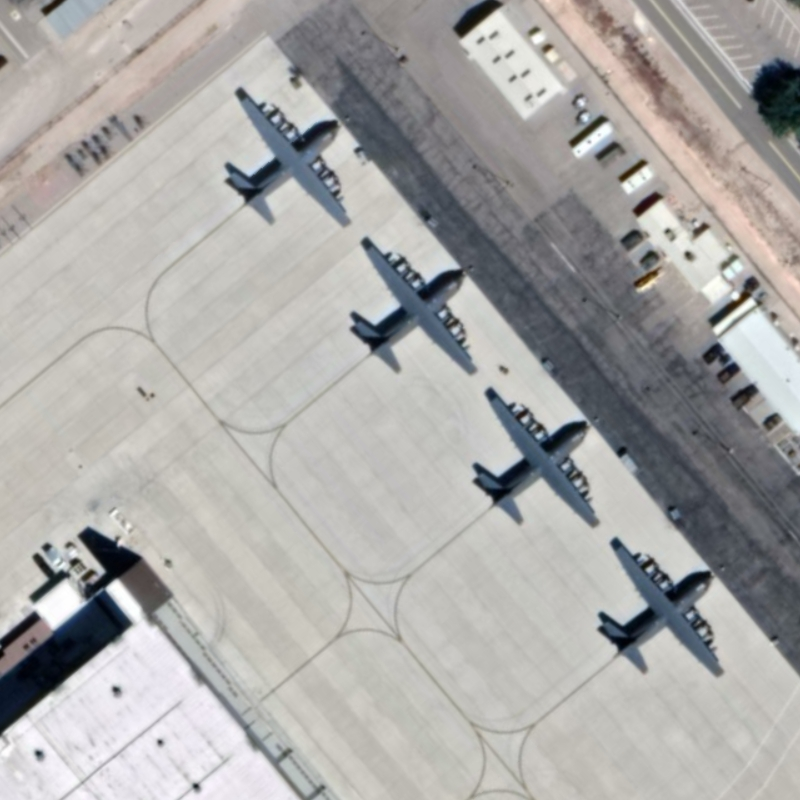A2: (589, 536, 734, 687), (463, 382, 607, 534), (217, 83, 360, 236), (342, 233, 485, 385)
